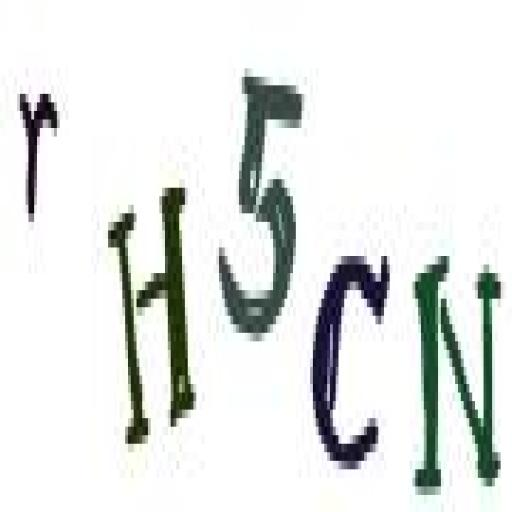5: (218, 50, 308, 355)
H: (102, 180, 202, 464)
N: (407, 242, 505, 499)
c: (310, 236, 392, 476)
r: (16, 75, 64, 236)
